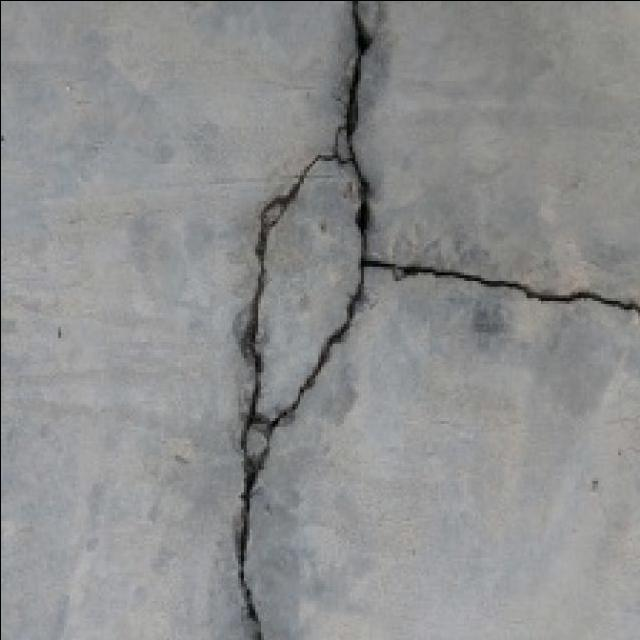SurfaceCrack: (204, 6, 634, 640)
